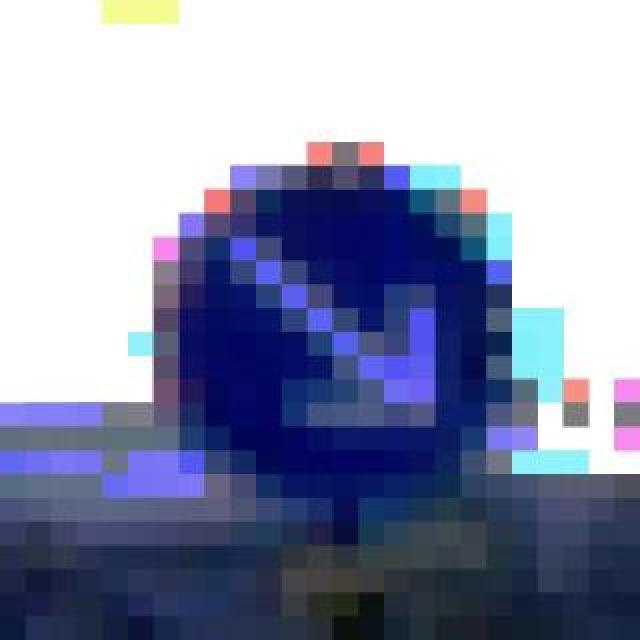keep right: (128, 142, 486, 498)
